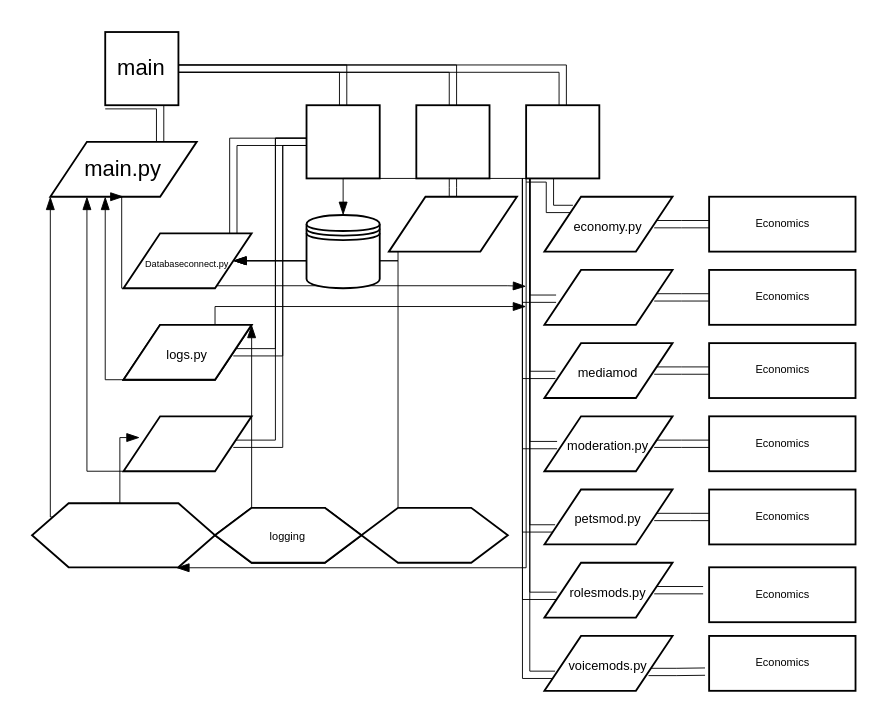
This 888x723 diagram has some shape labels left out. The shapes that lost their labels are listed below. From the top down, each one's box as (x1, y1, x2, y2) in pixels, then its label:
(305, 103, 380, 178): tools
(414, 103, 490, 178): configs
(524, 103, 599, 178): cogs
(387, 195, 517, 252): database_config.py
(305, 213, 380, 288): database
(543, 268, 673, 325): information.py
(122, 414, 252, 471): plugins.py
(30, 501, 215, 567): DiscordAPI OS Discord.ext => commands
(360, 506, 508, 563): psycopg2
